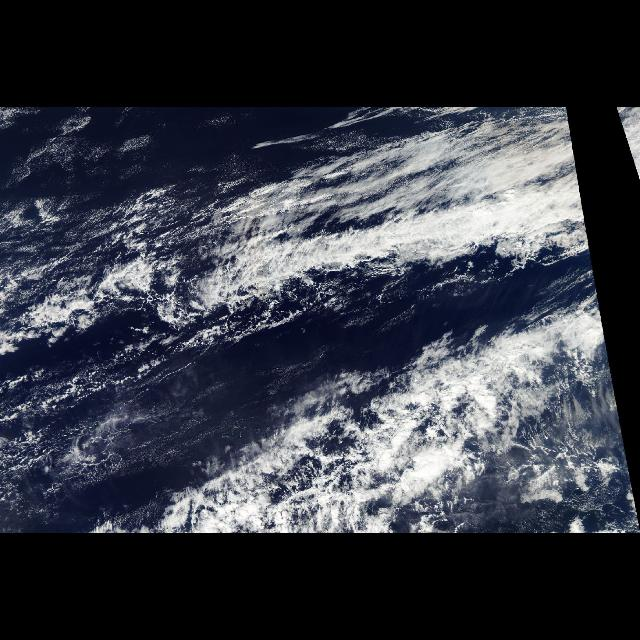Fish: (8, 129, 584, 527)
